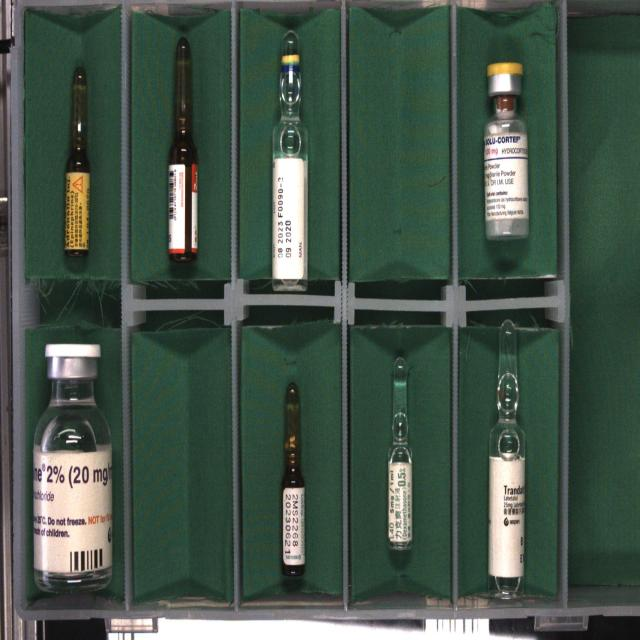Vials: (33, 344, 112, 592), (484, 61, 529, 240)
